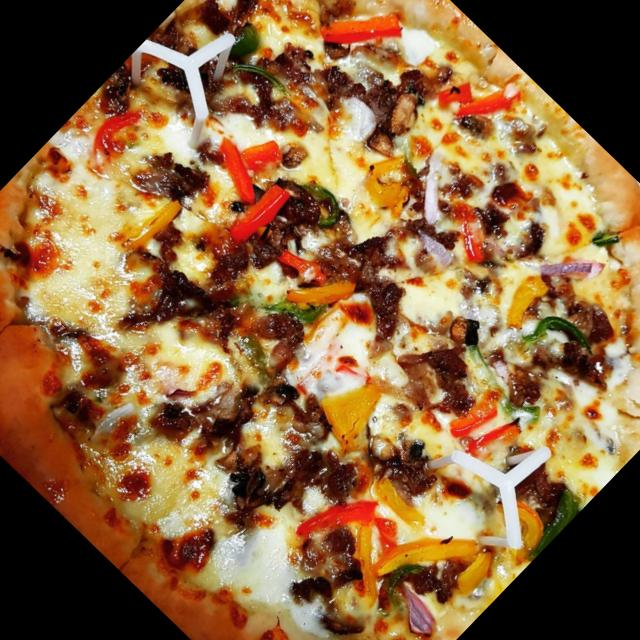peppers: (362, 494, 488, 620), (286, 464, 388, 567), (306, 363, 404, 461), (431, 376, 528, 472), (314, 0, 414, 77), (514, 298, 600, 383), (445, 60, 529, 144), (324, 520, 408, 604), (280, 250, 362, 330), (489, 262, 563, 338), (124, 190, 194, 262), (225, 175, 294, 246), (442, 204, 506, 268), (268, 234, 330, 296)
